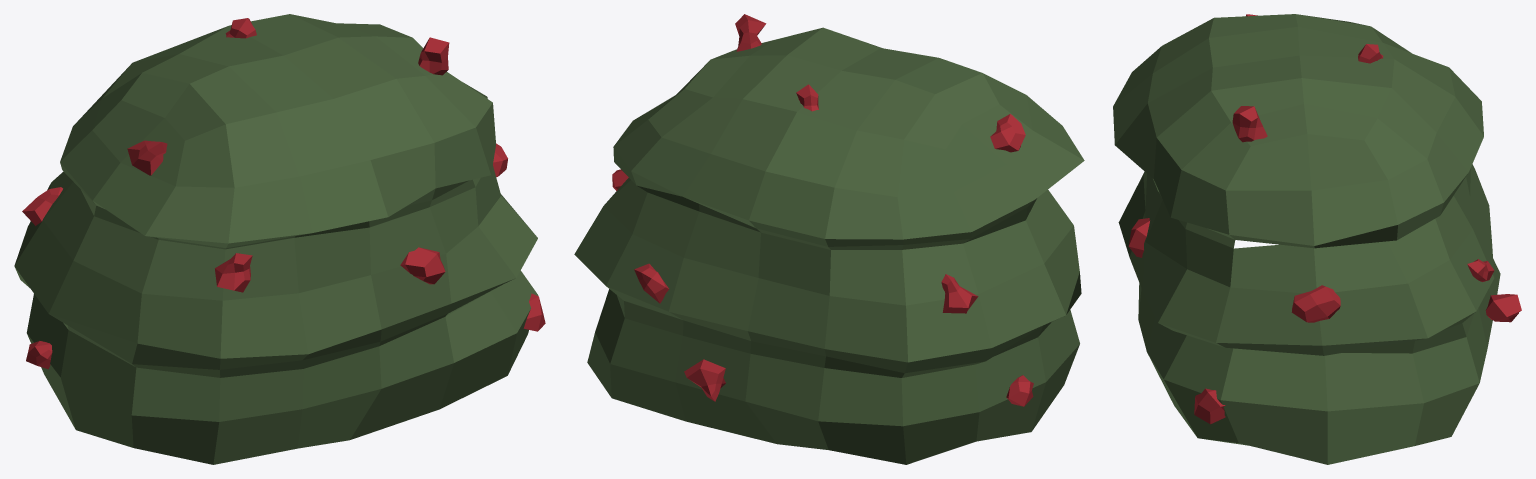
Rendered from BushBerries_4.glb.
3 views of the same model, side by side, from view 1: azimuth 30°, elevation 25°; view 2: azimuth 150°, elevation 25°; view 3: azimuth 270°, elevation 25° (orthographic). The views are drawn at different scales.
Parts seen in each view (by area): view 1: BushBerries_4; view 2: BushBerries_4; view 3: BushBerries_4.
Part boxes in pixels (left/top/right/bottom): BushBerries_4: left=14, top=14, right=545, bottom=464; BushBerries_4: left=574, top=14, right=1084, bottom=464; BushBerries_4: left=1113, top=14, right=1521, bottom=464.
Bounding box in the file's own units: 1.72 × 1.28 × 1.39.
